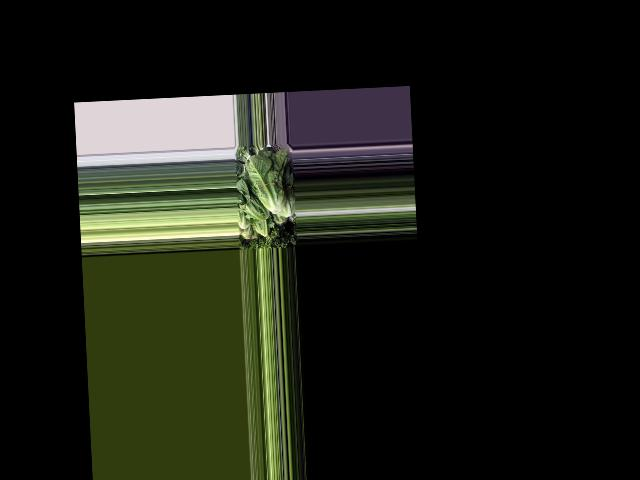lettuce: (237, 176, 268, 223)
